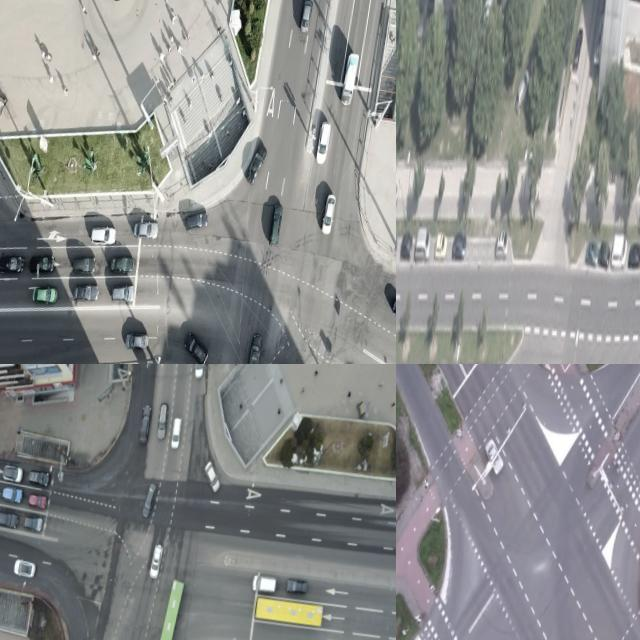UAI: (481, 436, 508, 478), (246, 143, 269, 186), (514, 66, 533, 116), (182, 332, 211, 364), (201, 460, 225, 498), (137, 403, 155, 445), (140, 481, 159, 520), (148, 541, 165, 583), (315, 121, 331, 165), (269, 203, 285, 246), (414, 226, 433, 262), (321, 194, 337, 236), (155, 399, 171, 441), (611, 234, 629, 270), (90, 225, 118, 248), (185, 209, 210, 234), (12, 557, 38, 581), (29, 253, 57, 275), (0, 253, 26, 276), (133, 219, 160, 241), (73, 283, 101, 304), (298, 0, 315, 34), (109, 254, 135, 276), (124, 331, 150, 353), (31, 285, 59, 305), (72, 254, 98, 275), (111, 283, 136, 304), (246, 334, 263, 364), (169, 417, 184, 451), (1, 463, 24, 485), (22, 513, 45, 534), (495, 231, 511, 261), (0, 485, 24, 505), (435, 231, 450, 261), (452, 233, 468, 261), (573, 30, 584, 70), (585, 239, 601, 266), (27, 469, 51, 487), (400, 231, 414, 261), (27, 491, 48, 511), (286, 579, 310, 595), (598, 241, 612, 268), (627, 241, 640, 270), (0, 511, 18, 529), (191, 364, 208, 381), (390, 297, 396, 326), (396, 233, 399, 260)
car: (253, 595, 326, 629), (151, 575, 187, 640)
harvester: (341, 52, 361, 106), (251, 571, 278, 596)
